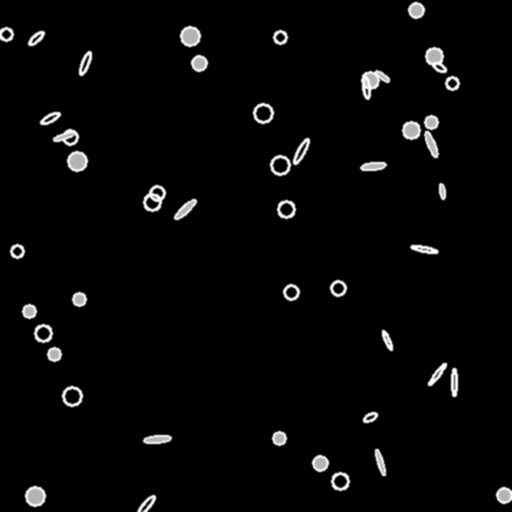pseudomonas: (173, 198, 197, 220), (292, 137, 310, 165), (427, 362, 447, 386), (423, 131, 439, 157), (77, 51, 93, 75), (136, 494, 156, 512), (39, 110, 61, 126), (374, 448, 386, 476), (27, 29, 45, 47), (380, 329, 394, 351), (410, 244, 438, 254), (53, 130, 75, 142), (144, 434, 170, 444), (431, 60, 447, 74), (374, 69, 390, 83), (361, 162, 385, 170), (362, 411, 378, 423), (362, 76, 370, 98), (452, 369, 457, 395), (438, 183, 446, 199)
synechocystis: (271, 156, 289, 174), (63, 387, 81, 405), (254, 104, 272, 122), (68, 152, 86, 170), (181, 27, 199, 45), (26, 487, 44, 505), (35, 325, 51, 341), (144, 194, 160, 210), (278, 201, 294, 217), (403, 122, 419, 138), (426, 48, 442, 64), (332, 473, 348, 489), (362, 72, 378, 88), (313, 456, 327, 470), (150, 186, 164, 200), (192, 56, 206, 70), (331, 281, 345, 295), (284, 285, 298, 299), (497, 488, 511, 502), (409, 3, 423, 17), (63, 130, 77, 144), (48, 348, 60, 360), (446, 77, 458, 89), (23, 305, 35, 317), (0, 28, 12, 40), (274, 31, 286, 43), (11, 245, 23, 257), (273, 432, 285, 444), (73, 293, 85, 305), (425, 116, 437, 128)
